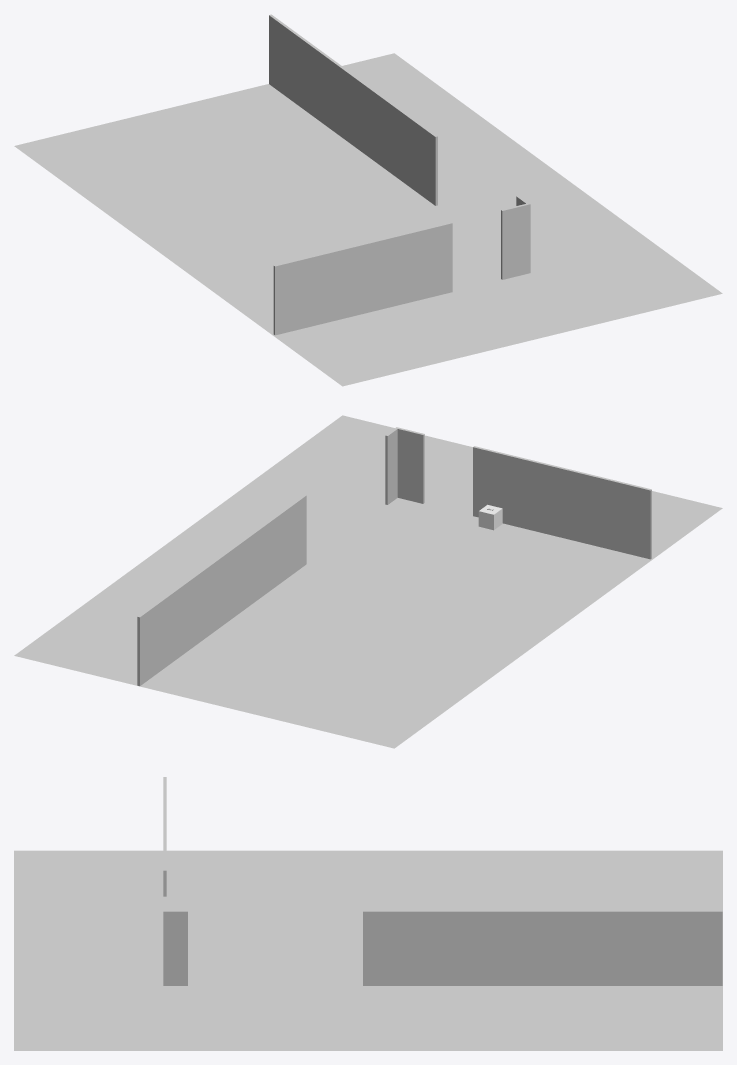
File: Interno29.glb
3 views of the same model, one above another, from view 1: azimuth 30°, elevation 25°; view 2: azimuth 150°, elevation 25°; view 3: azimuth 270°, elevation 25° (orthographic). The views are drawn at different scales.
Parts seen in each view (by area): view 1: Pavimento.001, Muro1, Muro2, MuroSpigolo; view 2: Pavimento.001, Muro1, Muro2, MuroSpigolo; view 3: Pavimento.001, Muro2, MuroSpigolo, Muro1.
Part boxes in pixels (left/top/right/bottom): Pavimento.001: left=14, top=53, right=722, bottom=386; Muro1: left=273, top=222, right=452, bottom=335; Muro2: left=269, top=14, right=437, bottom=205; MuroSpigolo: left=501, top=196, right=530, bottom=279; Pavimento.001: left=14, top=415, right=722, bottom=748; Muro1: left=473, top=446, right=651, bottom=559; Muro2: left=137, top=495, right=306, bottom=686; MuroSpigolo: left=385, top=427, right=424, bottom=504; Pavimento.001: left=14, top=850, right=722, bottom=1050; Muro2: left=363, top=910, right=722, bottom=985; MuroSpigolo: left=163, top=896, right=187, bottom=985; Muro1: left=163, top=777, right=166, bottom=896.
Bounding box in the file's own units: 2.89 × 0.5025 × 4.32.
Materials: 1 (1 with a texture image).
